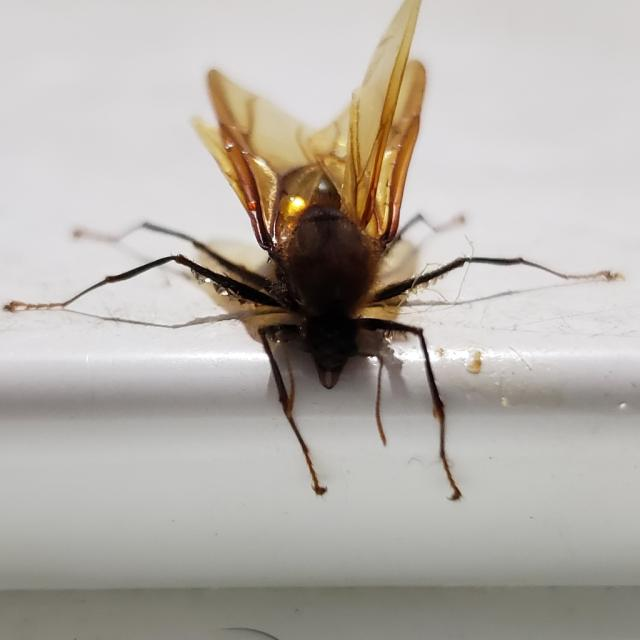Alive-Male-Alate: (1, 0, 626, 502)
